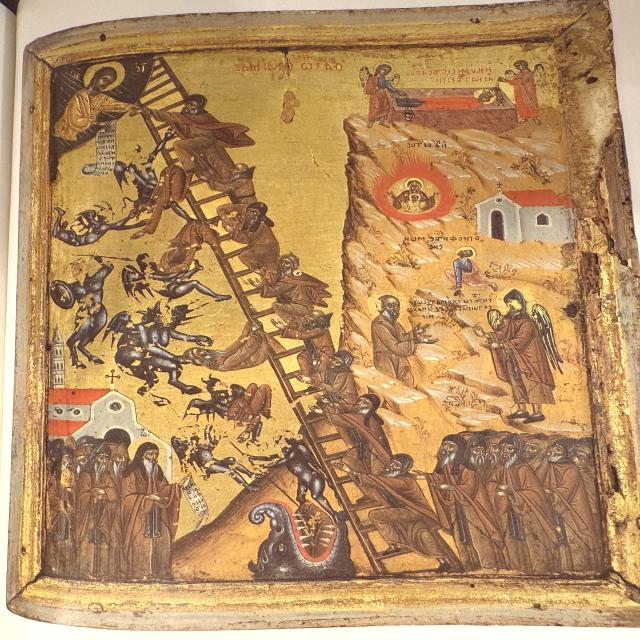angel: (476, 277, 586, 424), (500, 55, 562, 129), (350, 60, 412, 128)
aura: (79, 60, 129, 96), (368, 292, 406, 322), (496, 288, 538, 314), (130, 438, 166, 466), (474, 89, 500, 104), (456, 246, 478, 260), (405, 179, 424, 193)
christ: (44, 55, 145, 159)
saint: (105, 436, 209, 585), (364, 290, 440, 378)
scroll: (78, 118, 122, 184), (173, 473, 213, 527)
wing: (535, 301, 565, 377), (483, 310, 511, 328), (533, 64, 549, 94), (356, 66, 372, 94), (388, 73, 405, 89), (504, 70, 517, 80)
